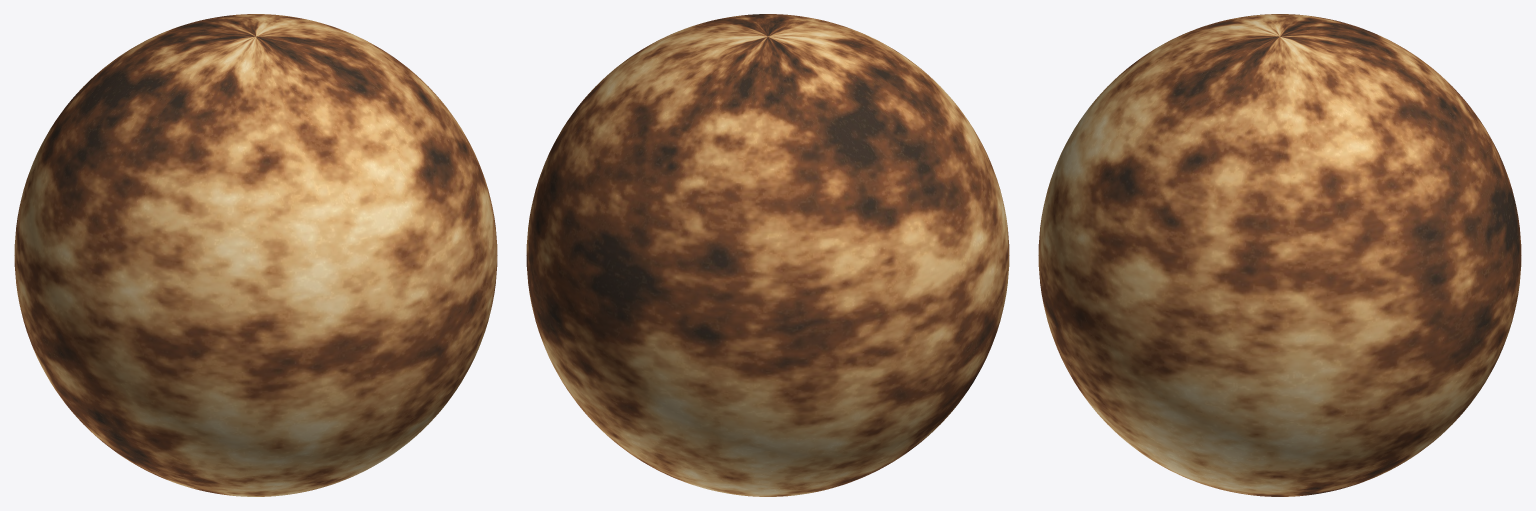
Rendered from desert.glb.
3 renders of one model, left to right at view 1: azimuth 30°, elevation 25°; view 2: azimuth 150°, elevation 25°; view 3: azimuth 270°, elevation 25°, orthographic.
Parts seen in each view (by area): view 1: Planet · Desert; view 2: Planet · Desert; view 3: Planet · Desert.
Part boxes in pixels (left/top/right/bottom): Planet · Desert: left=14, top=14, right=497, bottom=496; Planet · Desert: left=526, top=14, right=1009, bottom=496; Planet · Desert: left=1038, top=14, right=1521, bottom=496.
Bounding box in the file's own units: 2 × 2 × 2.
1 material, 1 textured.
